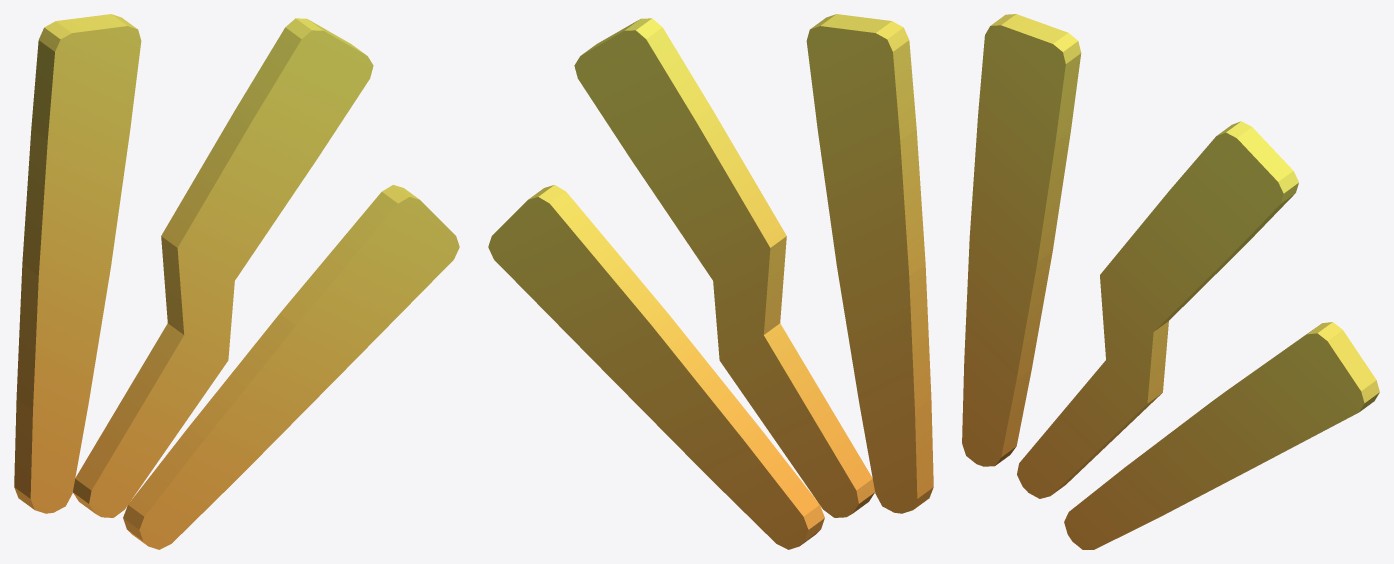
File: StunnedSymbol (2).fbx
3 views of the same model, side by side, from view 1: azimuth 30°, elevation 25°; view 2: azimuth 150°, elevation 25°; view 3: azimuth 330°, elevation 25° (orthographic). The views are drawn at different scales.
Parts seen in each view (by area): view 1: StunnedSymbol; view 2: StunnedSymbol; view 3: StunnedSymbol.
Part boxes in pixels (box(x1,y1,x2,y2)): StunnedSymbol: box(14, 14, 459, 549); StunnedSymbol: box(488, 14, 933, 549); StunnedSymbol: box(962, 14, 1379, 549).
Size of the model in its own units: 92.13 by 110 by 6.12.
